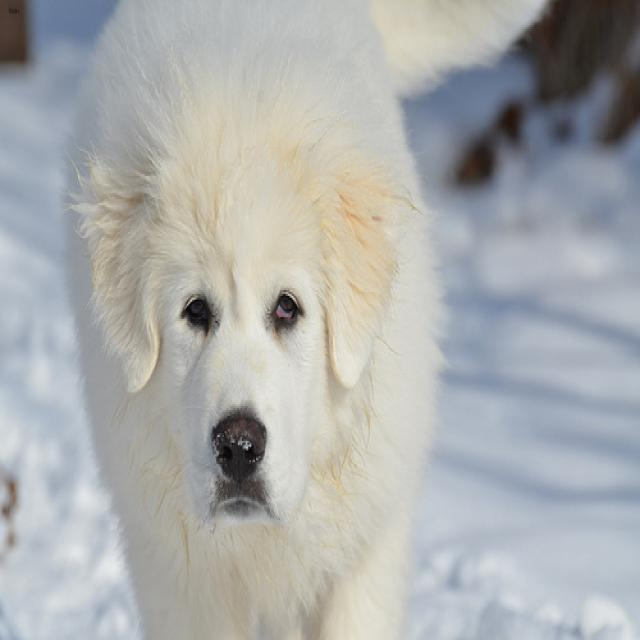dog-great_pyrenees: (55, 2, 451, 636)
